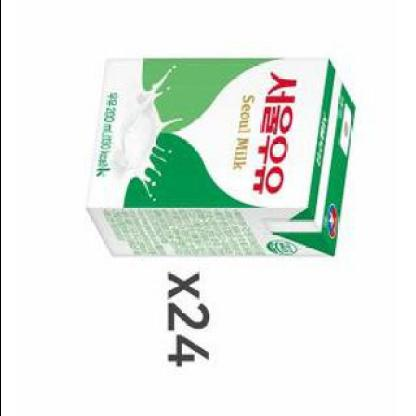tetra: (74, 45, 383, 269)
